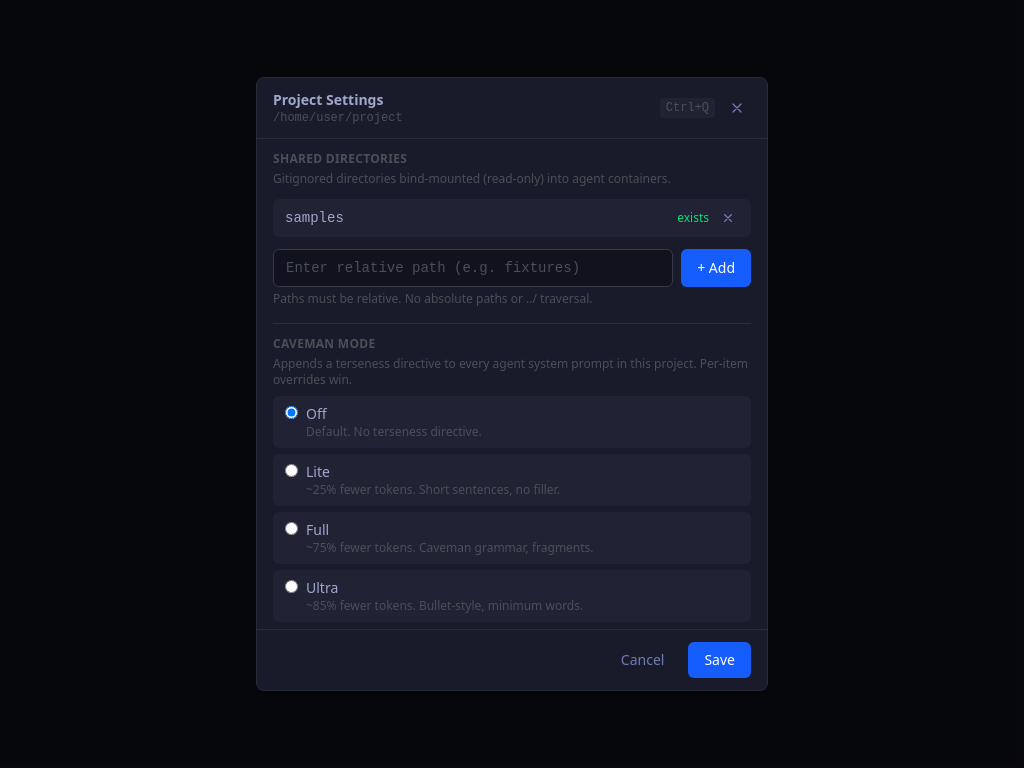
ProjectConfigDialog › validates input — rejects duplicates
The image size is (1024, 768).
expect the element with test id "shared-dir-samples" is shown: met, box [273,199,751,237]
Type "samples" into the field with test id "add-dir-input" at (473, 268), box [273,249,673,287]
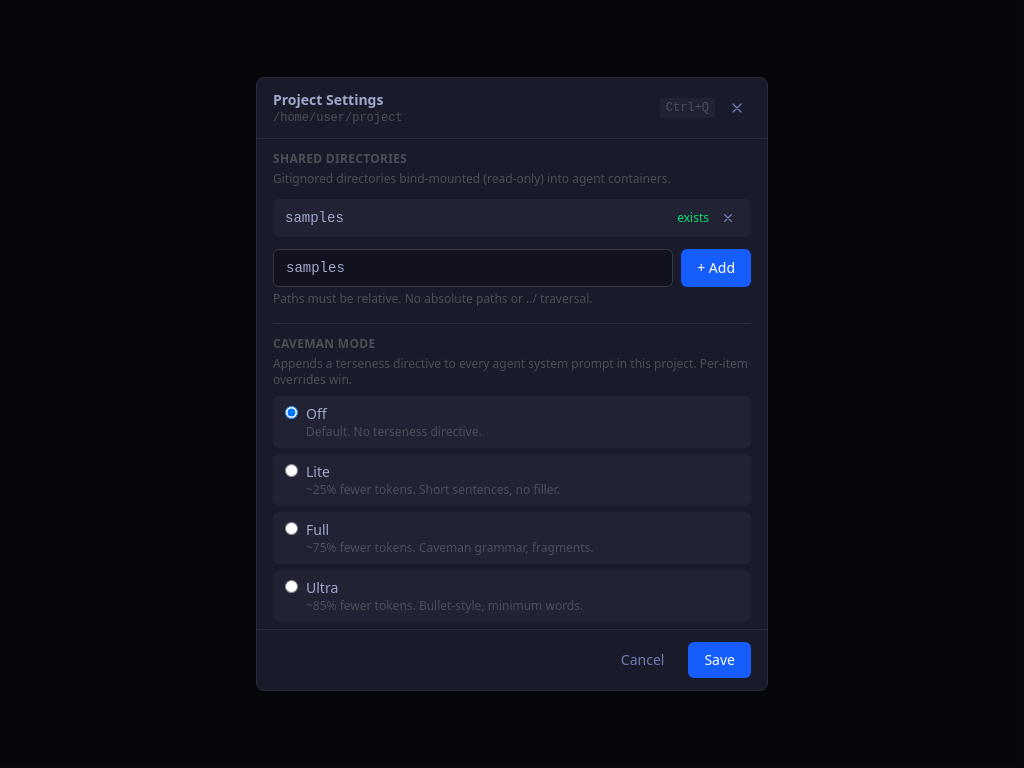
Click the button with test id "add-dir-button" at (716, 268), box [681,249,751,287]
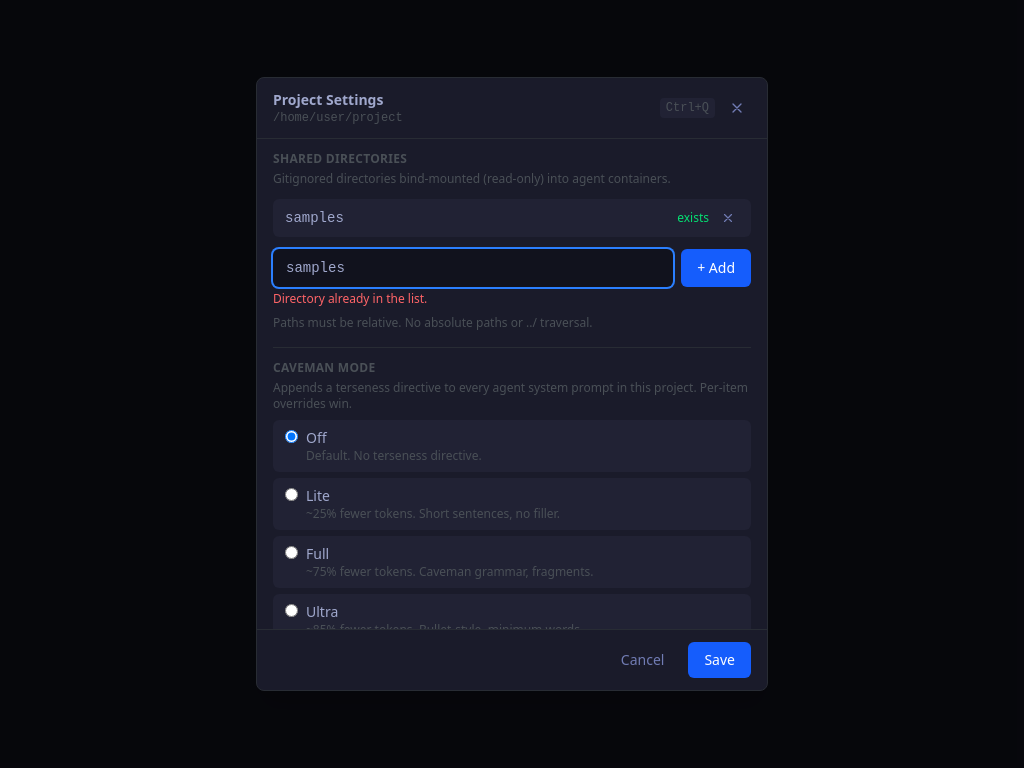
expect the text with test id "validation-error" shows "already in the list": met, box [273,290,427,307]
